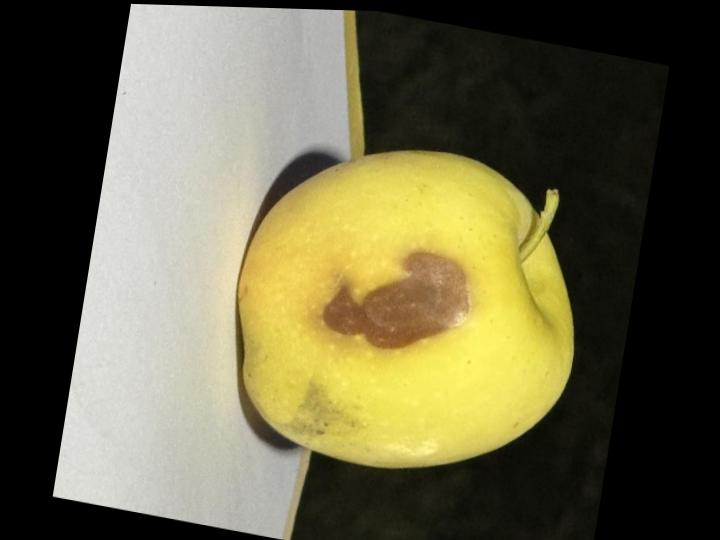apple: (238, 151, 572, 467)
rot_mold_decay: (322, 252, 468, 348)
